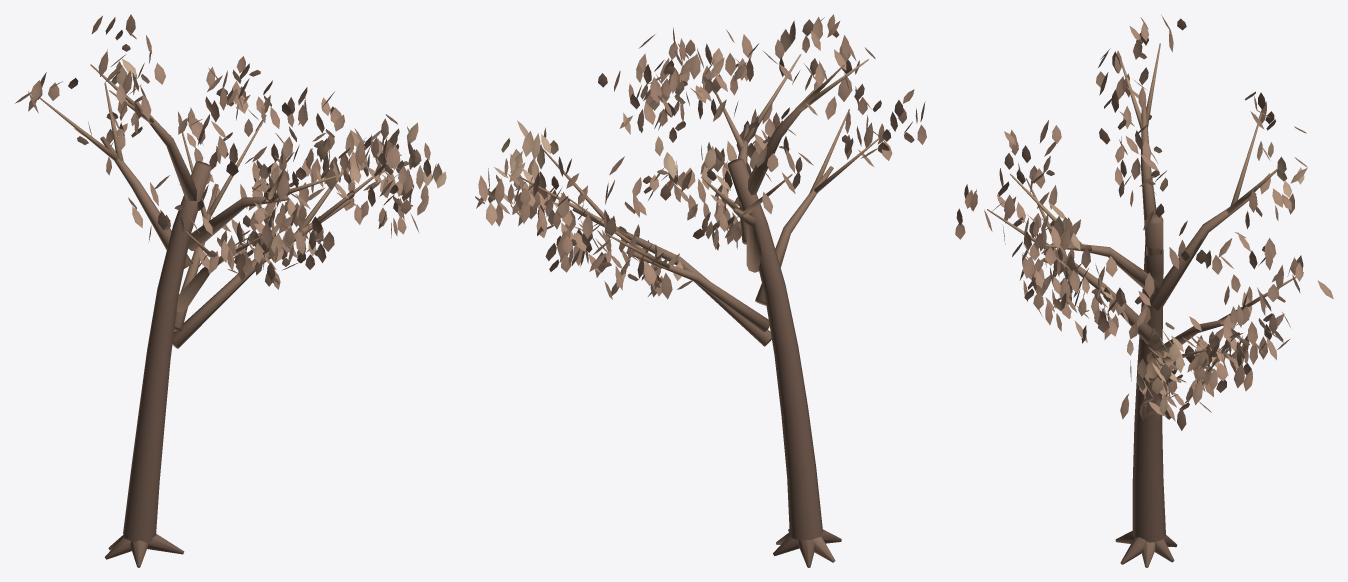
The model's file is tree_3d_04_copper.glb.
The picture shows the model from 3 angles, left to right: view 1: azimuth 30°, elevation 25°; view 2: azimuth 150°, elevation 25°; view 3: azimuth 270°, elevation 25°; orthographic projection. The views are drawn at different scales.
Visible parts, largest first — view 1: tree_3d_04_copper_foliage, tree_3d_04_copper_wood; view 2: tree_3d_04_copper_foliage, tree_3d_04_copper_wood; view 3: tree_3d_04_copper_foliage, tree_3d_04_copper_wood.
Boxes of the visible parts, <box> form: tree_3d_04_copper_foliage: <box>15,14,446,289</box>; tree_3d_04_copper_wood: <box>39,64,401,567</box>; tree_3d_04_copper_foliage: <box>475,14,926,299</box>; tree_3d_04_copper_wood: <box>519,54,879,567</box>; tree_3d_04_copper_foliage: <box>955,15,1333,430</box>; tree_3d_04_copper_wood: <box>987,43,1303,567</box>.
Bounding box in the file's own units: 9.74 × 13.7 × 8.84.
